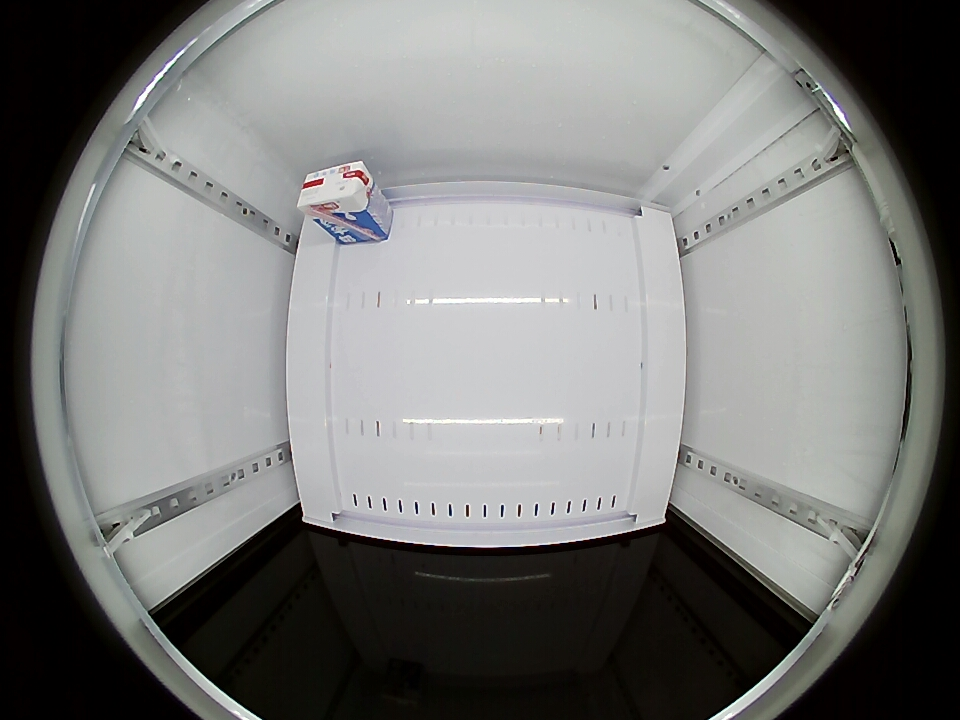niunai: (297, 159, 375, 220)
